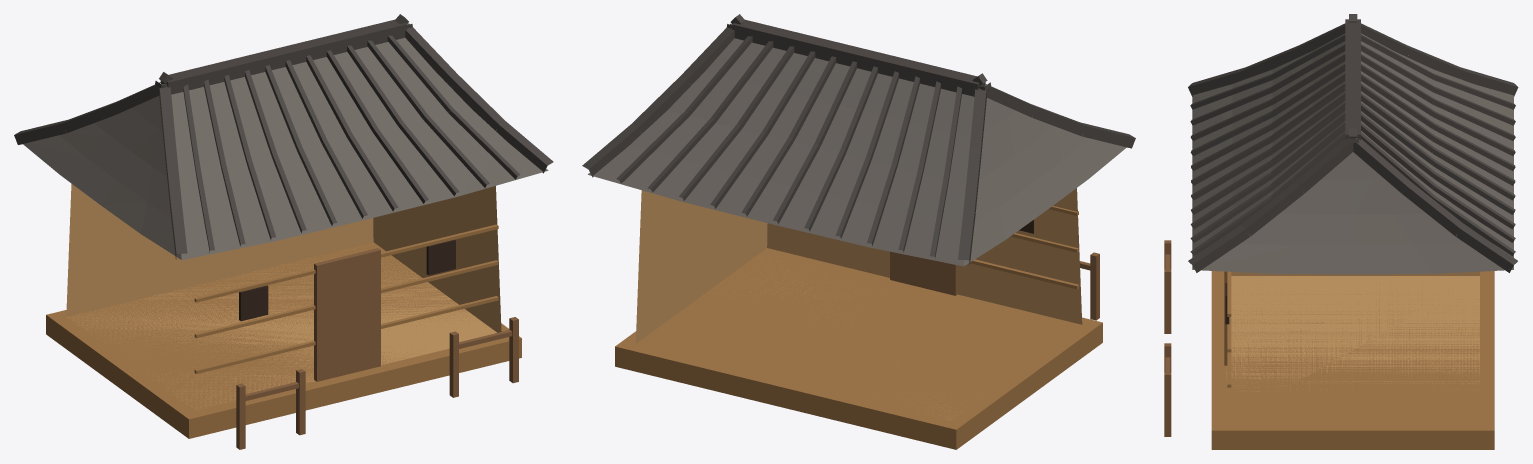
Rendered from viet_house_rammed.glb.
The picture shows the model from 3 angles, left to right: view 1: azimuth 30°, elevation 25°; view 2: azimuth 150°, elevation 25°; view 3: azimuth 270°, elevation 25°; orthographic projection. The views are drawn at different scales.
Visible parts, largest first — view 1: viet_house_rammed; view 2: viet_house_rammed; view 3: viet_house_rammed.
Part boxes in pixels (bbox=[...]): viet_house_rammed: bbox=[14, 14, 553, 449]; viet_house_rammed: bbox=[582, 14, 1135, 449]; viet_house_rammed: bbox=[1164, 14, 1518, 449].
Bounding box in the file's own units: 1 × 0.7638 × 0.821.
